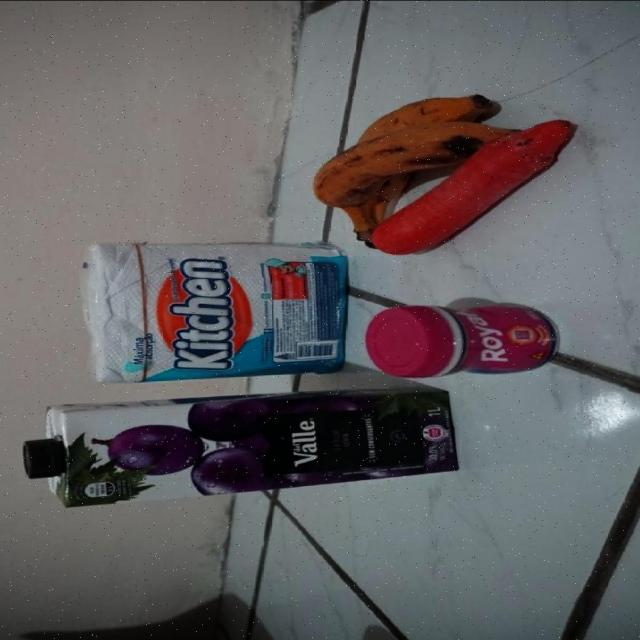Banana: (312, 92, 510, 252)
Carrot: (368, 118, 572, 256)
Napkin: (80, 238, 348, 384)
Yeast: (364, 302, 560, 379)
